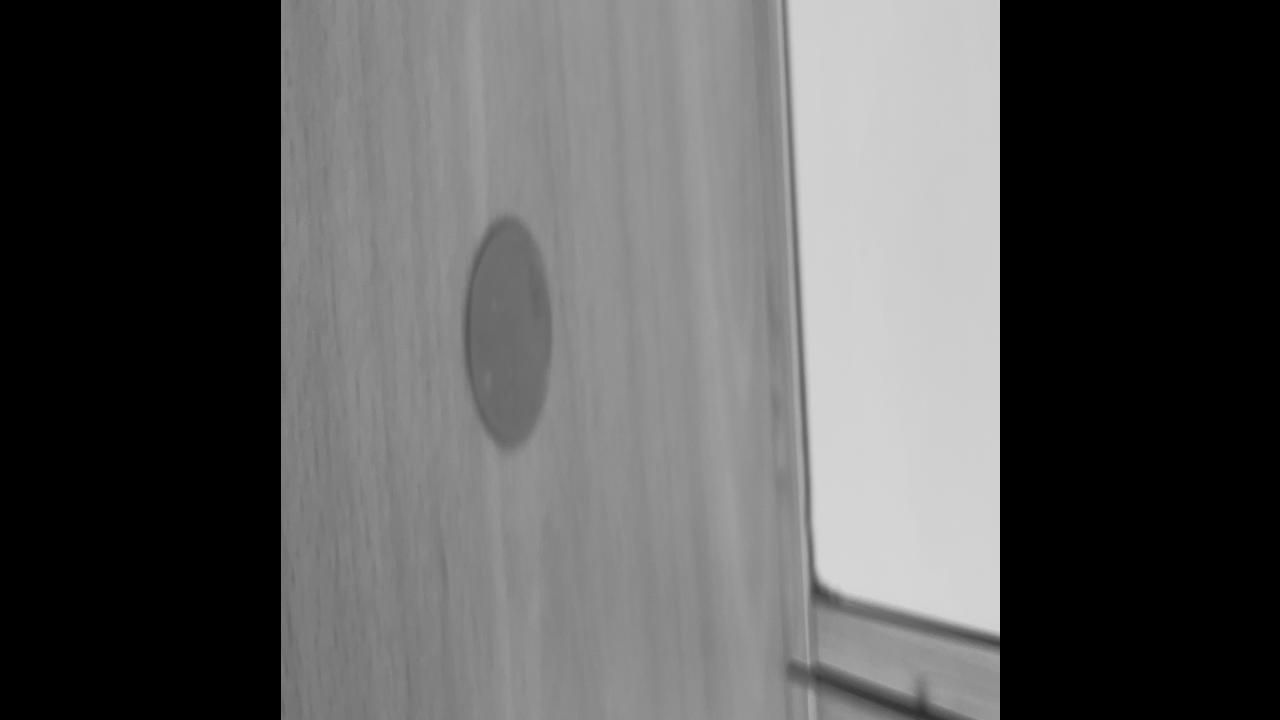coin: (465, 216, 553, 450)
